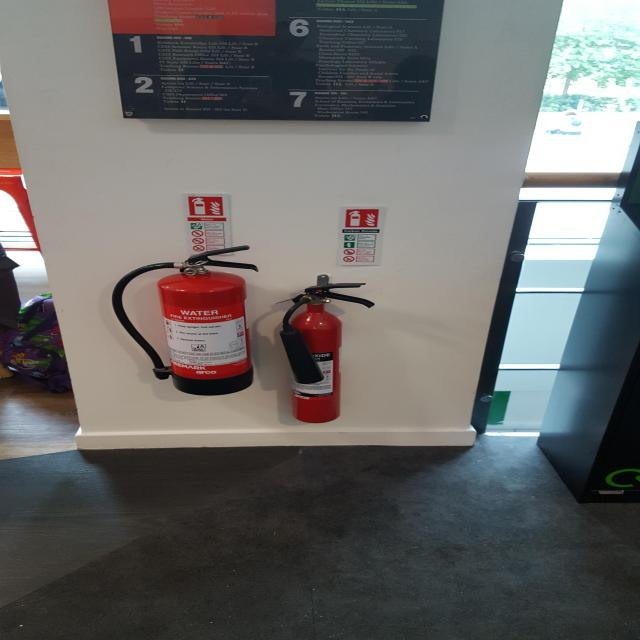fire_extinguisher: (109, 242, 267, 398), (274, 281, 381, 424)
